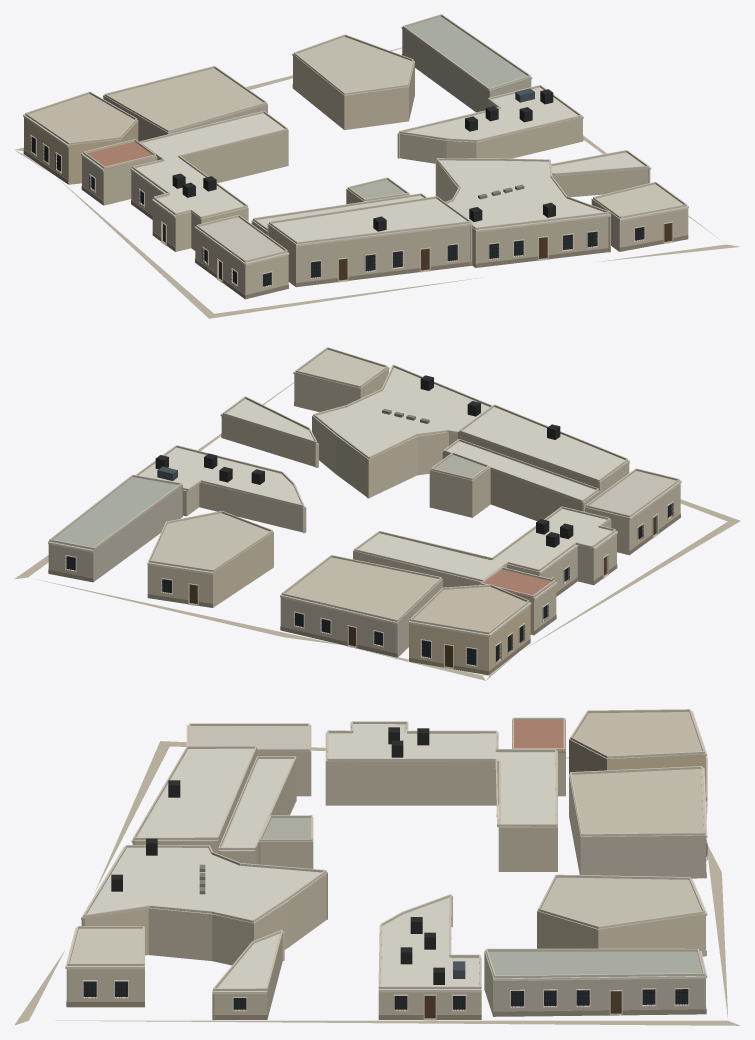
3 views of the same model, one above another, from view 1: azimuth 30°, elevation 25°; view 2: azimuth 150°, elevation 25°; view 3: azimuth 270°, elevation 25° (orthographic). The views are drawn at different scales.
Visible parts, largest first — view 1: edificio; view 2: edificio; view 3: edificio.
Boxes of the visible parts, x1=… form: edificio: x1=15, y1=14, x2=740, y2=318; edificio: x1=14, y1=347, x2=740, y2=680; edificio: x1=14, y1=709, x2=740, y2=1025.
Bounding box in the file's own units: 60.06 × 6.4 × 64.8.
